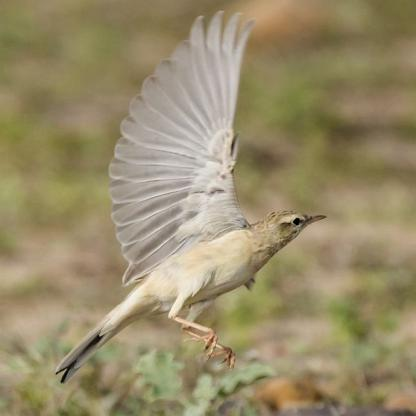Burung: (53, 11, 328, 382)
